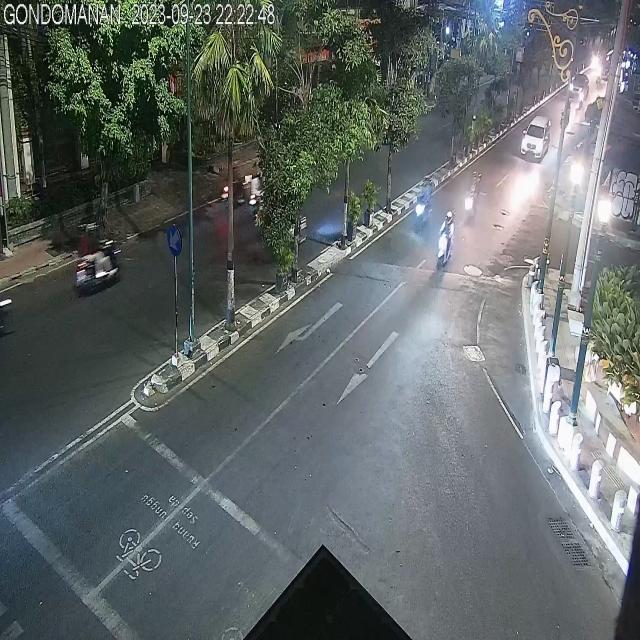car: (521, 114, 549, 161)
motorcycle: (77, 218, 121, 294), (222, 160, 250, 206), (436, 209, 456, 268), (415, 176, 430, 229), (466, 170, 481, 222), (243, 248, 244, 248)
